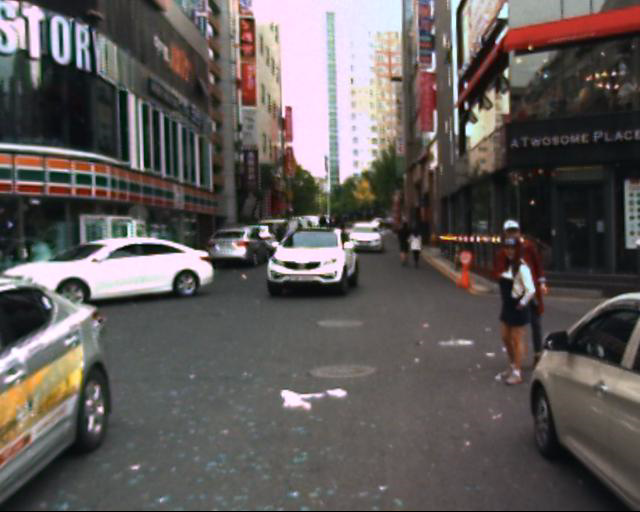person: (484, 203, 559, 393), (405, 208, 435, 281), (394, 214, 414, 275)
